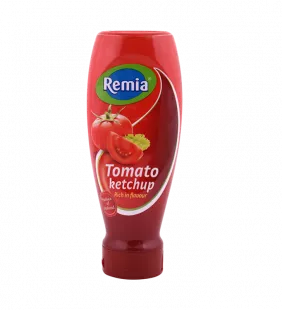REMIA: (76, 20, 188, 284)
